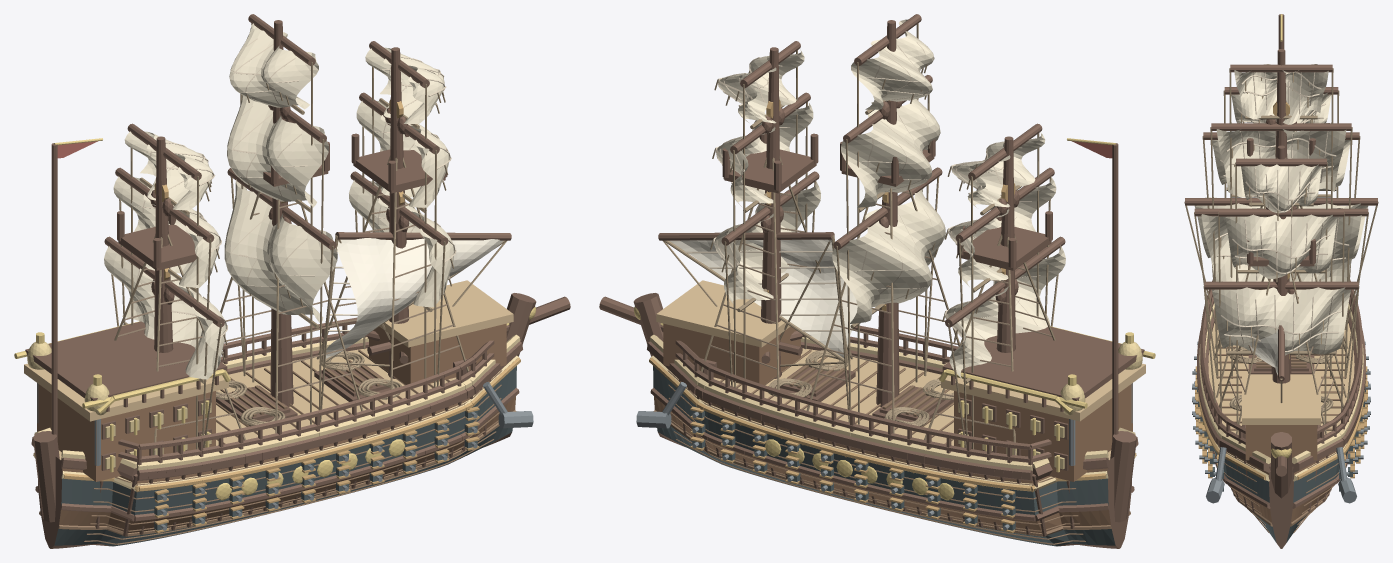
Rendered from ship_of_line-v5.glb.
The picture shows the model from 3 angles, left to right: view 1: azimuth 30°, elevation 25°; view 2: azimuth 150°, elevation 25°; view 3: azimuth 270°, elevation 25°; orthographic projection. The views are drawn at different scales.
Visible parts, largest first — view 1: ship_of_line_sails_sail, ship_of_line_hull_darkwood, ship_of_line_masts_darkwood, ship_of_line_deck_hull, ship_of_line_hull_black, ship_of_line_deck_darkwood, ship_of_line_rigging_rope, ship_of_line_rigging_darkwood, ship_of_line_railings_darkwood, ship_of_line_sails_sailbright, ship_of_line_deck_decklight, ship_of_line_hull_seam (+18 smaller); view 2: ship_of_line_sails_sail, ship_of_line_masts_darkwood, ship_of_line_hull_darkwood, ship_of_line_deck_hull, ship_of_line_rigging_rope, ship_of_line_hull_black, ship_of_line_deck_darkwood, ship_of_line_rigging_darkwood, ship_of_line_railings_darkwood, ship_of_line_deck_decklight, ship_of_line_sails_sailbright, ship_of_line_hull_seam (+18 smaller); view 3: ship_of_line_sails_sail, ship_of_line_rigging_darkwood, ship_of_line_rigging_rope, ship_of_line_hull_darkwood, ship_of_line_rigging_sailshade, ship_of_line_deck_decklight, ship_of_line_hull_decklight, ship_of_line_railings_darkwood, ship_of_line_masts_darkwood, ship_of_line_hull_black, ship_of_line_hull_seam, ship_of_line_deck_hull (+13 smaller).
Part boxes in pixels (bbox=[...]): ship_of_line_sails_sail: bbox=[104, 23, 454, 379]; ship_of_line_hull_darkwood: bbox=[31, 293, 570, 548]; ship_of_line_masts_darkwood: bbox=[117, 20, 447, 406]; ship_of_line_deck_hull: bbox=[37, 323, 506, 481]; ship_of_line_hull_black: bbox=[54, 366, 516, 546]; ship_of_line_deck_darkwood: bbox=[25, 321, 227, 470]; ship_of_line_rigging_rope: bbox=[108, 23, 507, 455]; ship_of_line_rigging_darkwood: bbox=[104, 14, 511, 327]; ship_of_line_railings_darkwood: bbox=[118, 317, 494, 474]; ship_of_line_sails_sailbright: bbox=[326, 238, 503, 358]; ship_of_line_deck_decklight: bbox=[24, 280, 513, 421]; ship_of_line_hull_seam: bbox=[39, 349, 516, 544]; ship_of_line_sails_sail: bbox=[714, 19, 1065, 378]; ship_of_line_masts_darkwood: bbox=[722, 20, 1052, 406]; ship_of_line_hull_darkwood: bbox=[599, 293, 1138, 548]; ship_of_line_deck_hull: bbox=[663, 323, 1132, 481]; ship_of_line_rigging_rope: bbox=[662, 23, 1061, 455]; ship_of_line_hull_black: bbox=[653, 366, 1115, 546]; ship_of_line_deck_darkwood: bbox=[942, 327, 1144, 470]; ship_of_line_rigging_darkwood: bbox=[658, 14, 1065, 327]; ship_of_line_railings_darkwood: bbox=[675, 325, 1051, 474]; ship_of_line_deck_decklight: bbox=[656, 280, 1145, 421]; ship_of_line_sails_sailbright: bbox=[669, 239, 857, 357]; ship_of_line_hull_seam: bbox=[653, 349, 1130, 544]; ship_of_line_sails_sail: bbox=[1194, 64, 1368, 357]; ship_of_line_rigging_darkwood: bbox=[1185, 64, 1377, 381]; ship_of_line_rigging_rope: bbox=[1184, 68, 1378, 423]; ship_of_line_hull_darkwood: bbox=[1197, 309, 1365, 548]; ship_of_line_rigging_sailshade: bbox=[1215, 72, 1349, 352]; ship_of_line_deck_decklight: bbox=[1242, 374, 1320, 424]; ship_of_line_hull_decklight: bbox=[1208, 323, 1354, 434]; ship_of_line_railings_darkwood: bbox=[1200, 279, 1362, 444]; ship_of_line_masts_darkwood: bbox=[1247, 49, 1315, 383]; ship_of_line_hull_black: bbox=[1215, 450, 1347, 542]; ship_of_line_hull_seam: bbox=[1213, 339, 1349, 533]; ship_of_line_deck_hull: bbox=[1245, 425, 1317, 460].
Bounding box in the file's own units: 60.13 × 51.65 × 22.22.
